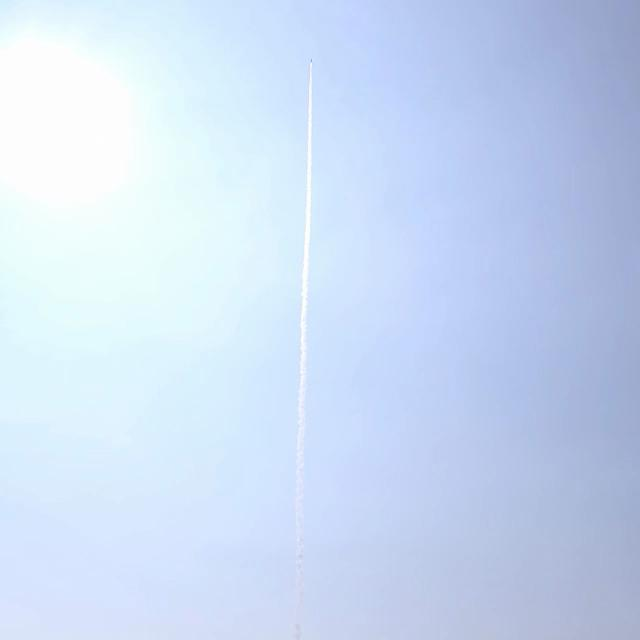smoke_trail_with_rocket: (294, 135, 311, 640)
